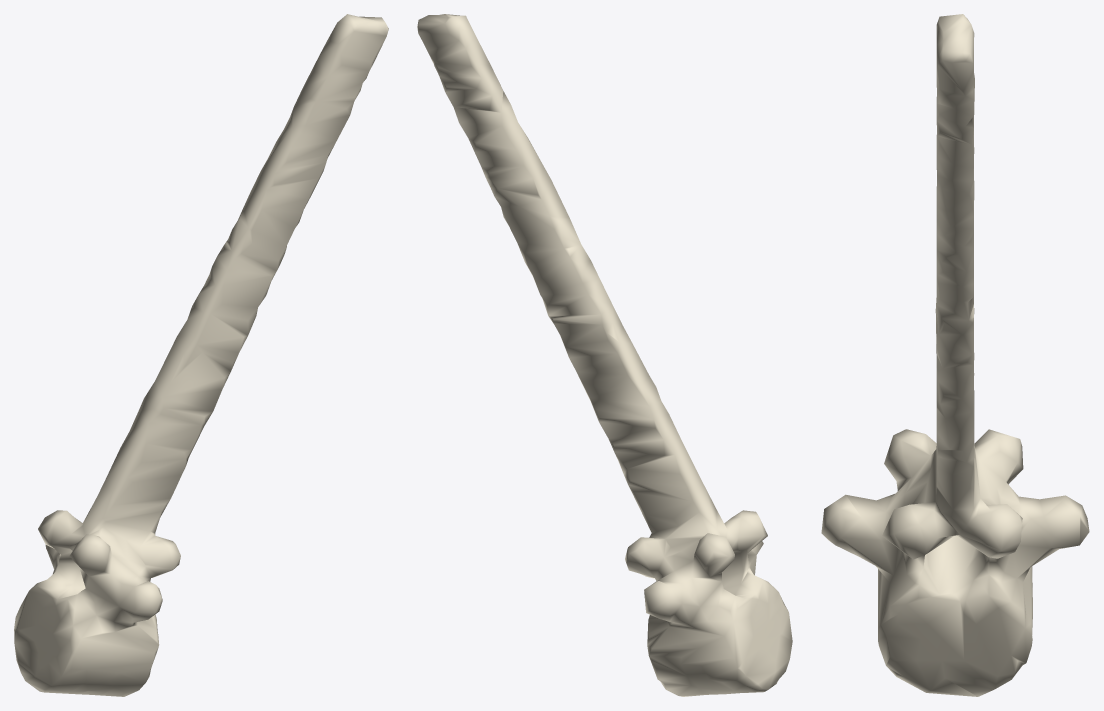
Rendered from thoracic_2.glb.
The picture shows the model from 3 angles, left to right: view 1: azimuth 30°, elevation 25°; view 2: azimuth 150°, elevation 25°; view 3: azimuth 270°, elevation 25°; orthographic projection. The views are drawn at different scales.
Parts seen in each view (by area): view 1: geometry_0; view 2: geometry_0; view 3: geometry_0.
Boxes of the visible parts, bbox=[...] form: geometry_0: bbox=[14, 14, 388, 696]; geometry_0: bbox=[417, 14, 792, 696]; geometry_0: bbox=[821, 14, 1089, 696].
Bounding box in the file's own units: 0.4144 × 0.6914 × 0.2002.
